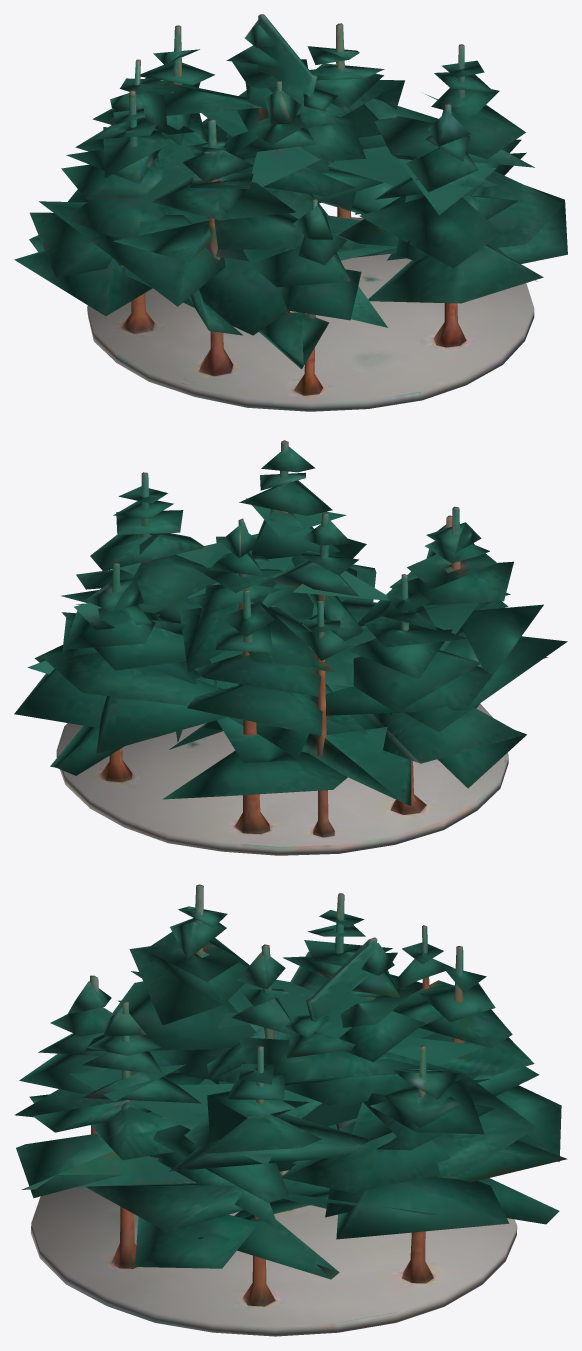
The model's file is mini-forest.glb.
3 views of the same model, one above another, from view 1: azimuth 30°, elevation 25°; view 2: azimuth 150°, elevation 25°; view 3: azimuth 270°, elevation 25° (orthographic). The views are drawn at different scales.
Size of the model in its own units: 0.9536 by 0.519 by 0.8877.
1 material, 1 textured.
